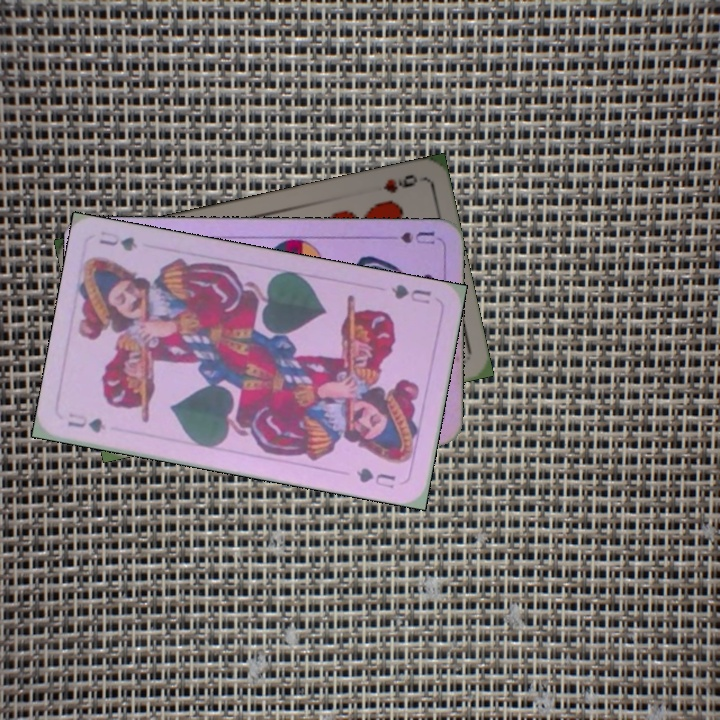GU: (386, 280, 434, 307), (63, 409, 109, 436)
H9: (380, 170, 421, 196)
SU: (397, 227, 438, 247)
